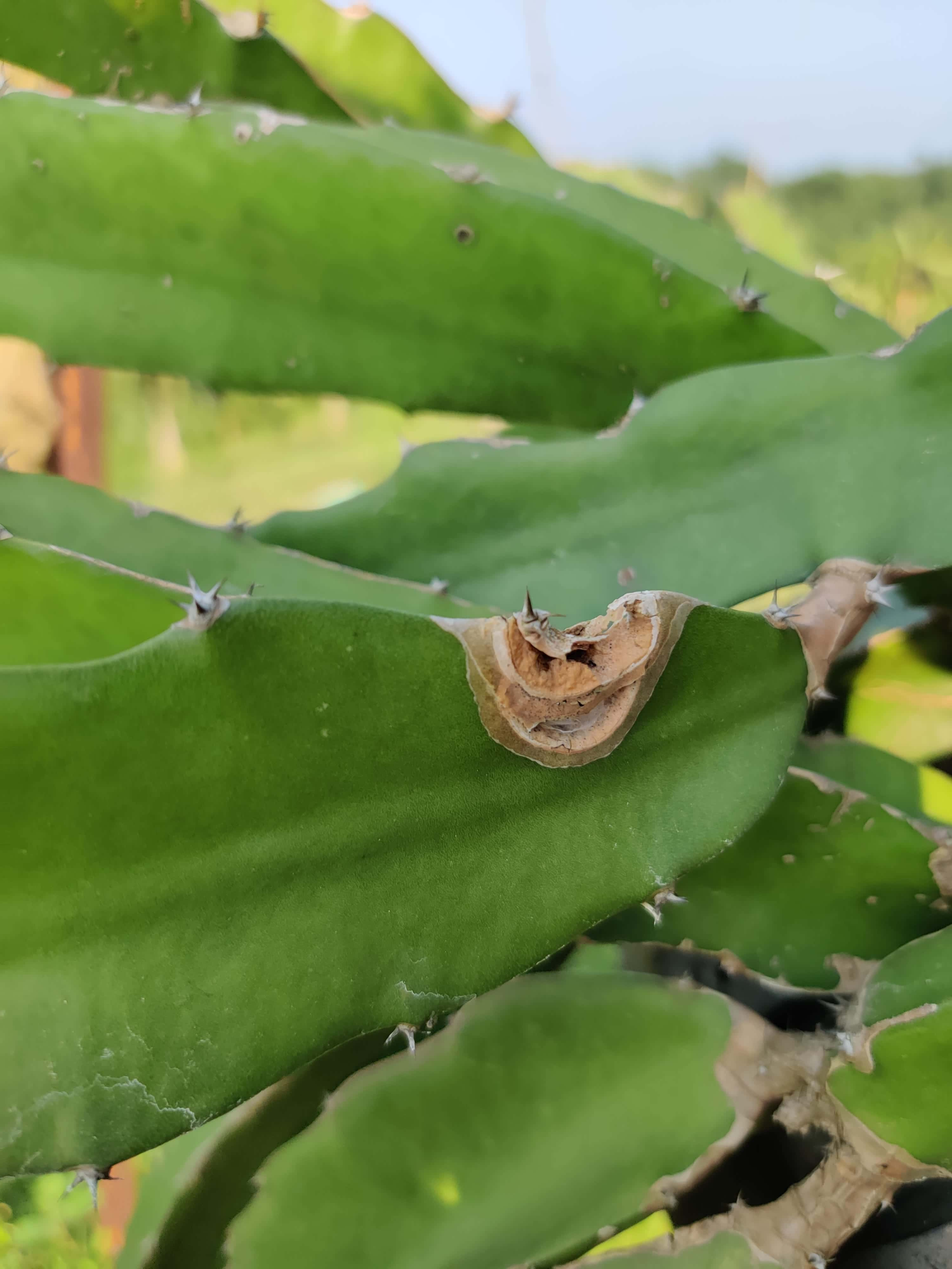stemcanker: (429, 588, 701, 770)
